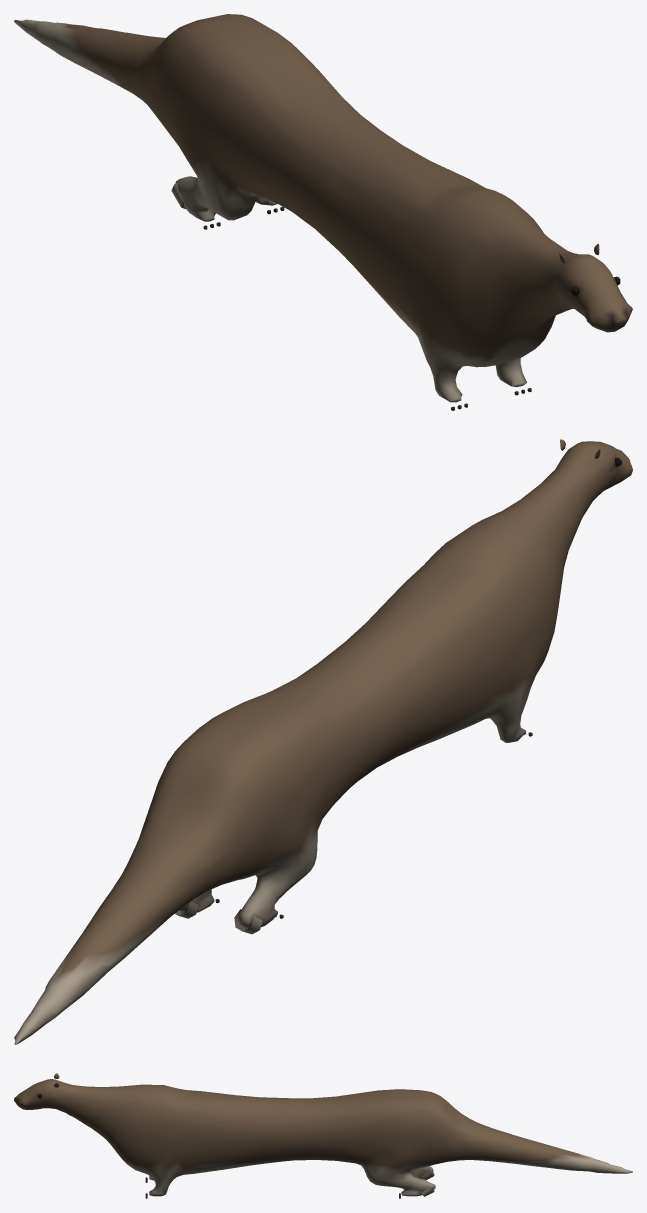
Rendered from otter.glb.
3 renders of one model, top to bottom at view 1: azimuth 30°, elevation 25°; view 2: azimuth 150°, elevation 25°; view 3: azimuth 270°, elevation 25°, orthographic. The views are drawn at different scales.
Parts seen in each view (by area): view 1: lack; view 2: lack; view 3: lack.
Boxes of the visible parts, x1,y1,x2,y2 form: lack: [14, 14, 632, 410]; lack: [14, 439, 632, 1044]; lack: [14, 1073, 632, 1198].
Size of the model in its own units: 0.1606 by 0.2939 by 1.48.
